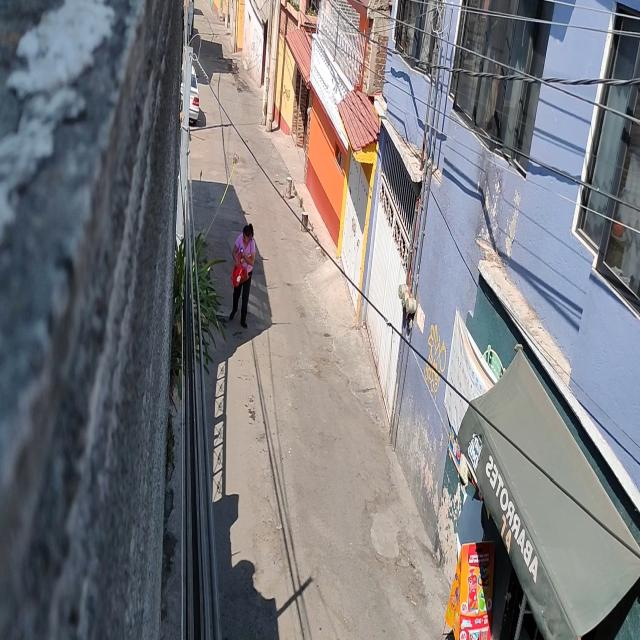adult: (229, 224, 256, 329)
